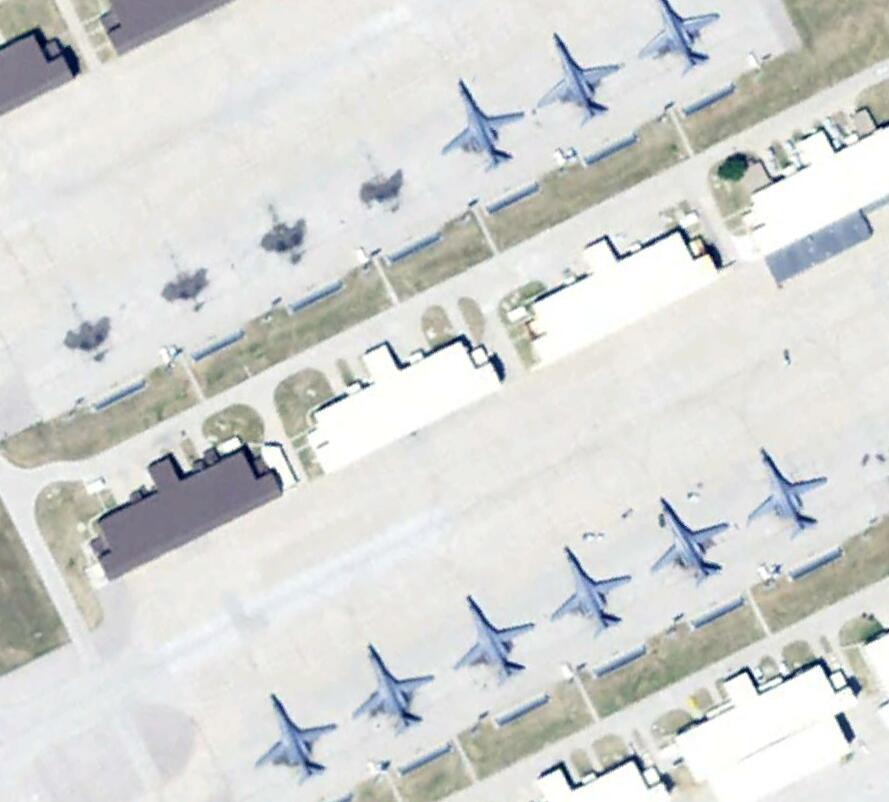A10: (739, 447, 831, 547), (348, 640, 439, 740), (436, 79, 527, 177), (246, 694, 341, 786), (447, 593, 539, 686), (643, 495, 731, 591), (546, 546, 635, 640), (533, 31, 621, 126), (635, 1, 724, 81)
